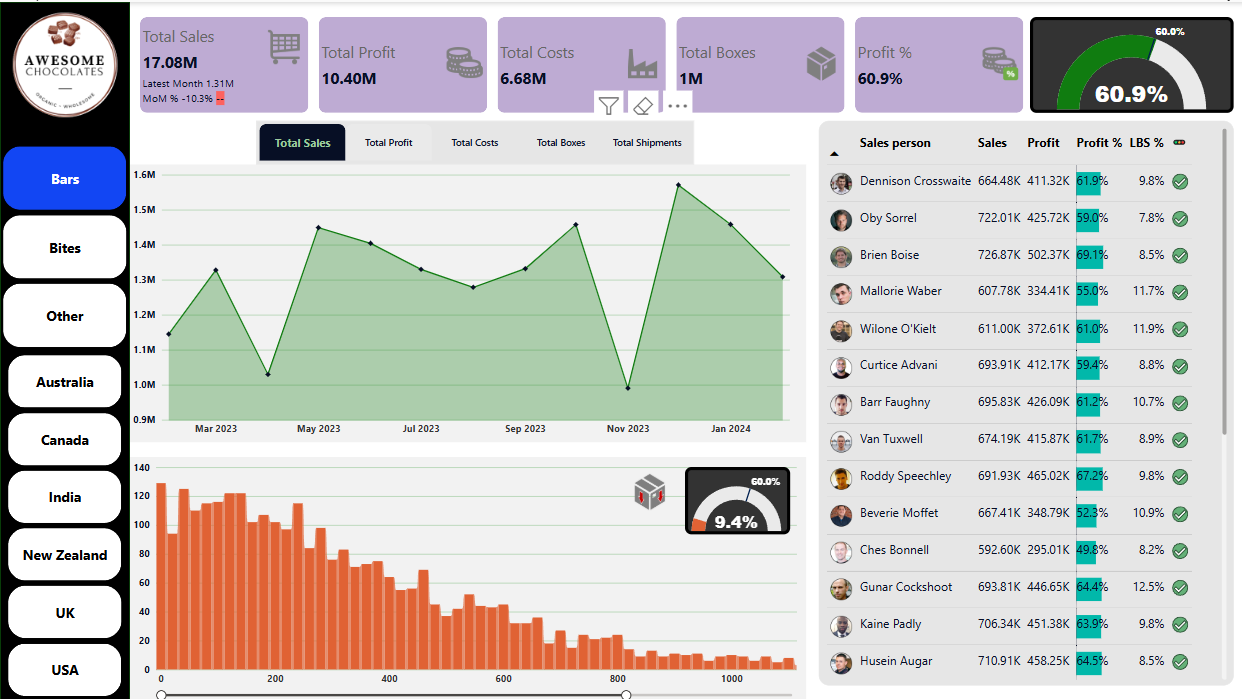

This screenshot's page, from the dashboard's own definition file:
{"tool":"powerbi","page":{"name":"Page 3","canvas":[1920,1080],"ordinal":2},"visuals":[{"type":"shape","box":[0,0,200.7,1080.8],"z":0},{"type":"advancedSlicerVisual","fields":{"Values":["locations.Geo"]},"box":[7.7,540.4,185.3,540.4],"z":1000},{"type":"advancedSlicerVisual","fields":{"Values":["products.Category"]},"box":[0,218.1,200.7,322.3],"z":2000},{"type":"cardVisual","fields":{"Data":["Measure.Total Sales","Measure.Total Profit","Measure.Total Costs","Measure.Total Boxes","Measure.Profit %"]},"box":[216.2,23.2,1368.4,148.6],"z":3000},{"type":"gauge","fields":{"Y":["Measure.Profit %"]},"box":[1590,24,314,148],"z":4000},{"type":"image","box":[7.7,11.6,185.3,171.8],"z":5000},{"type":"lineChart","title":"Total Shipments By Start of Month","fields":{"Y":["Measure.Total Sales"],"Category":["calendar.Start of Month"]},"box":[200.7,250.9,1044.2,428.5],"z":6000},{"type":"advancedSlicerVisual","fields":{"Values":["Measure Selector.Measure Selector"]},"box":[395.7,183.4,675.5,67.6],"z":7000},{"type":"columnChart","title":"Shipments Analysis","fields":{"Category":["shipments.Boxes (bins)"],"Y":["Measure.Total Shipments"]},"box":[200.7,702.5,1044.2,378.3],"z":8000},{"type":"gauge","fields":{"Y":["Measure.LBS %"]},"box":[1057.7,718,162.1,104.2],"z":9000},{"type":"image","box":[959.2,718,88.8,77.2],"z":10000},{"type":"tableEx","fields":{"Values":["people.Picture","people.Sales person","Measure.Total Sales","Measure.Total Profit","Measure.Profit %","Measure.LBS %","Measure.Profit Target Indicator"]},"box":[1264.2,183.4,640.8,872.4],"z":11000}]}

Visuals, with their boxes on the page's 1920x1080 design canvas (x1, y1, x2, y2). These are canvas units, not pixel positions in the 1242x699 screenshot, which may show the page scaled, cropped or inside an application window:
shape: BBox(0, 0, 201, 1081)
advancedSlicerVisual - locations.Geo: BBox(8, 540, 193, 1081)
advancedSlicerVisual - products.Category: BBox(0, 218, 201, 540)
cardVisual - Measure.Total Sales x Measure.Total Profit: BBox(216, 23, 1585, 172)
gauge - Measure.Profit %: BBox(1590, 24, 1904, 172)
image: BBox(8, 12, 193, 183)
"Total Shipments By Start of Month" lineChart: BBox(201, 251, 1245, 679)
advancedSlicerVisual - Measure Selector.Measure Selector: BBox(396, 183, 1071, 251)
"Shipments Analysis" columnChart: BBox(201, 702, 1245, 1081)
gauge - Measure.LBS %: BBox(1058, 718, 1220, 822)
image: BBox(959, 718, 1048, 795)
tableEx - people.Picture x people.Sales person: BBox(1264, 183, 1905, 1056)
